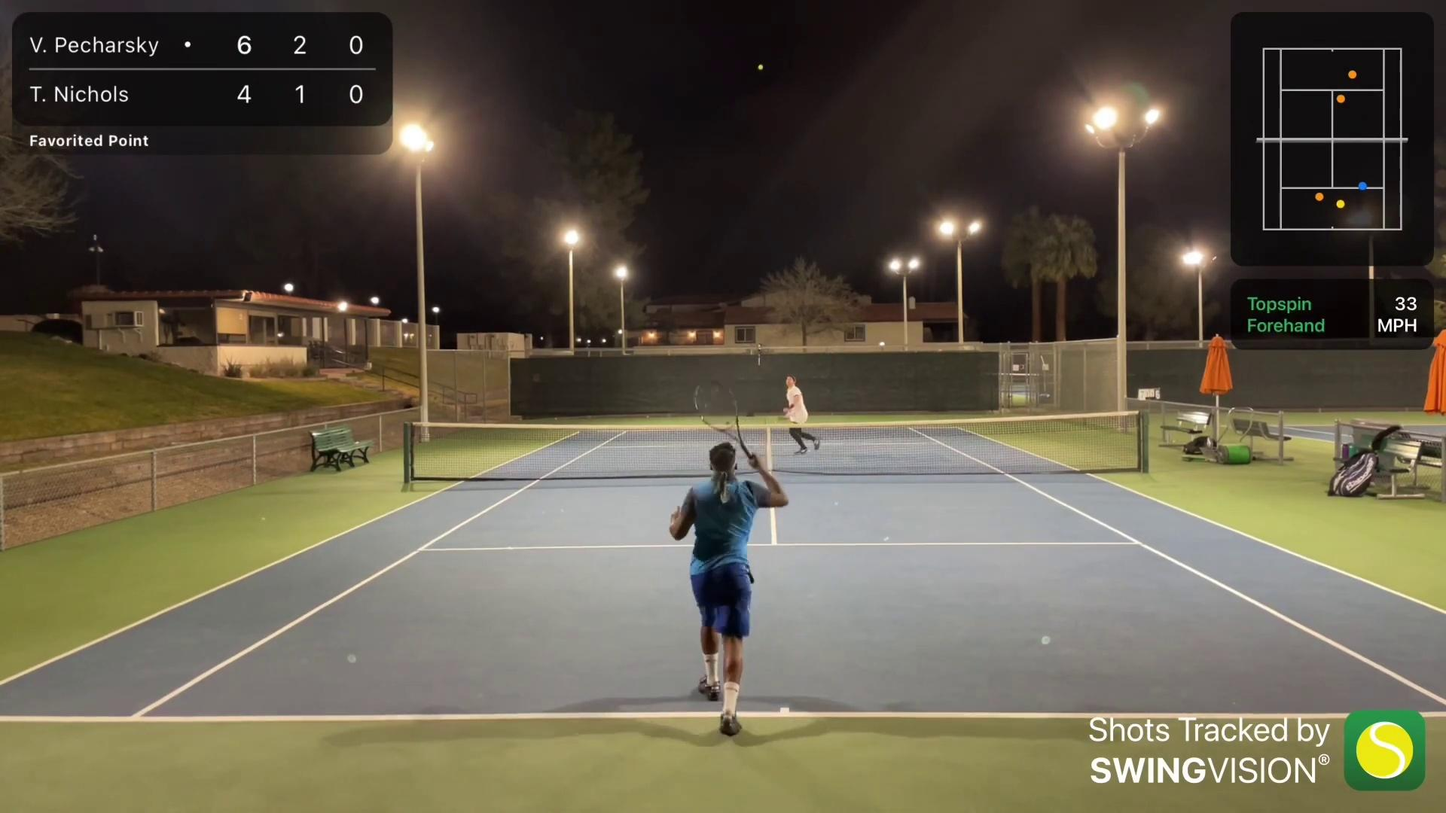ball: (757, 65, 764, 70)
